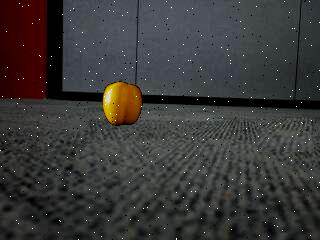Capsicum: (103, 83, 144, 125)
